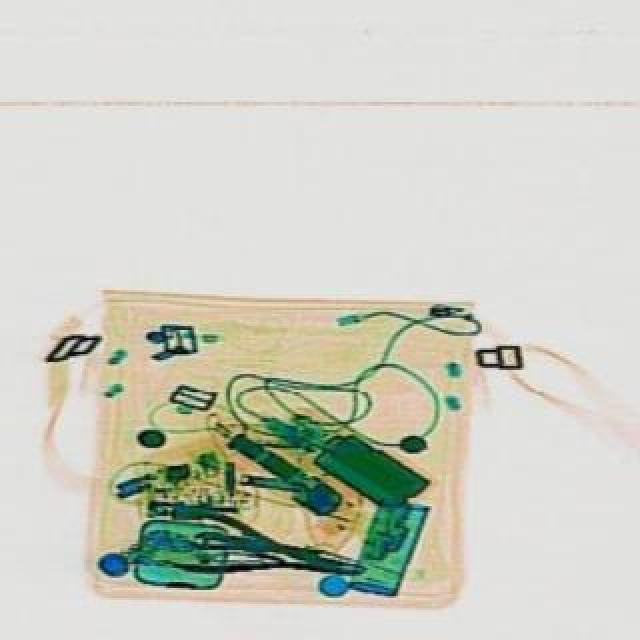wrench: (162, 500, 378, 600)
